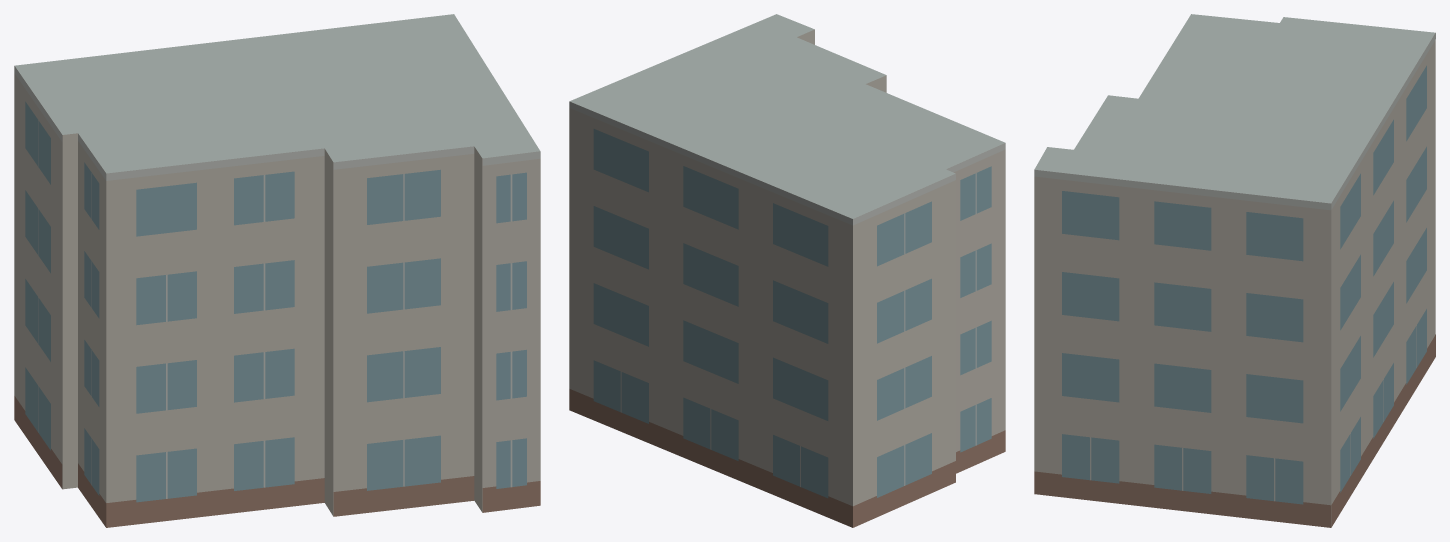
Rendered from survey-upis-32987696.glb.
3 renders of one model, left to right at view 1: azimuth 30°, elevation 25°; view 2: azimuth 150°, elevation 25°; view 3: azimuth 270°, elevation 25°, orthographic. The views are drawn at different scales.
Parts seen in each view (by area): view 1: survey-upis-32987696.tmp; view 2: survey-upis-32987696.tmp; view 3: survey-upis-32987696.tmp.
Part boxes in pixels (x1=…): survey-upis-32987696.tmp: x1=14, y1=14, x2=540, y2=527; survey-upis-32987696.tmp: x1=569, y1=14, x2=1005, y2=527; survey-upis-32987696.tmp: x1=1034, y1=14, x2=1435, y2=527.
Bounding box in the file's own units: 14.54 × 11.6 × 13.02.
